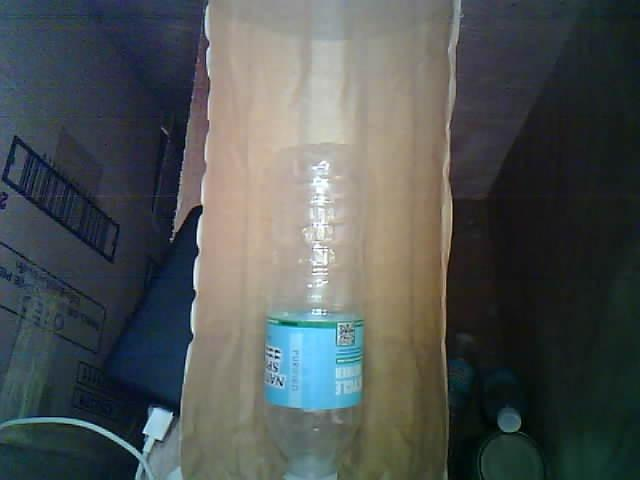small_bottle: (246, 136, 374, 480)
